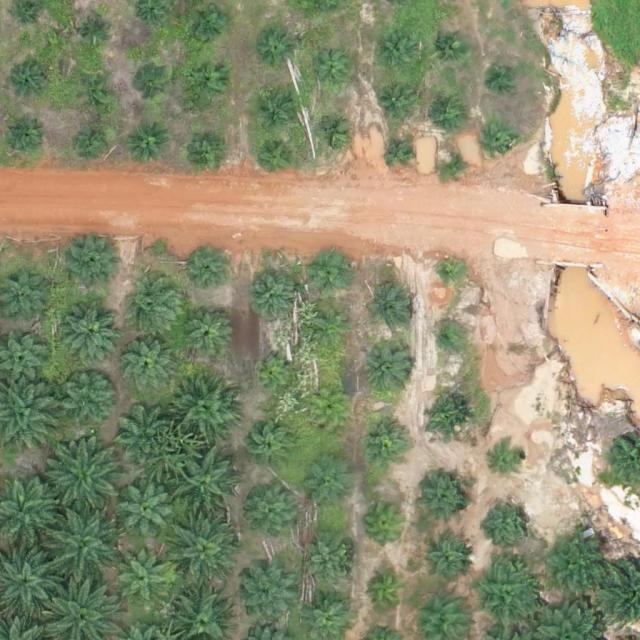Healthy: (49, 509, 127, 588), (47, 443, 125, 521), (472, 561, 542, 632), (171, 519, 242, 589), (541, 529, 611, 600), (177, 456, 239, 519), (124, 276, 187, 338), (173, 379, 235, 441), (59, 297, 121, 359), (245, 486, 300, 542), (242, 568, 297, 623), (121, 485, 176, 540), (115, 406, 170, 461), (63, 370, 118, 425), (247, 269, 302, 324), (68, 235, 123, 290), (300, 538, 354, 593), (116, 551, 170, 606), (182, 305, 236, 360), (123, 339, 177, 394), (366, 343, 413, 391)
Small: (418, 474, 473, 529), (420, 535, 475, 590), (185, 248, 232, 296), (423, 396, 470, 444), (363, 568, 410, 616), (246, 423, 293, 470), (307, 463, 354, 510), (366, 283, 413, 330), (361, 417, 408, 464), (365, 501, 412, 548), (487, 498, 534, 545), (133, 65, 173, 105), (377, 83, 417, 123), (188, 7, 227, 47), (127, 125, 167, 164), (8, 114, 47, 154), (79, 73, 118, 113), (187, 61, 227, 100), (256, 138, 295, 178), (312, 53, 351, 93), (431, 27, 470, 67), (377, 33, 416, 72), (76, 125, 115, 164), (259, 90, 298, 129), (186, 128, 225, 167), (252, 353, 291, 392), (11, 66, 50, 105), (257, 30, 296, 69), (312, 252, 351, 291), (316, 312, 355, 351), (316, 115, 355, 154), (431, 93, 470, 132), (490, 441, 529, 480), (386, 137, 417, 169), (440, 150, 471, 182), (15, 4, 46, 35), (84, 20, 115, 51), (484, 129, 515, 160), (490, 63, 521, 94), (435, 259, 466, 290), (433, 326, 464, 357)
Yellow: (309, 390, 349, 430)
